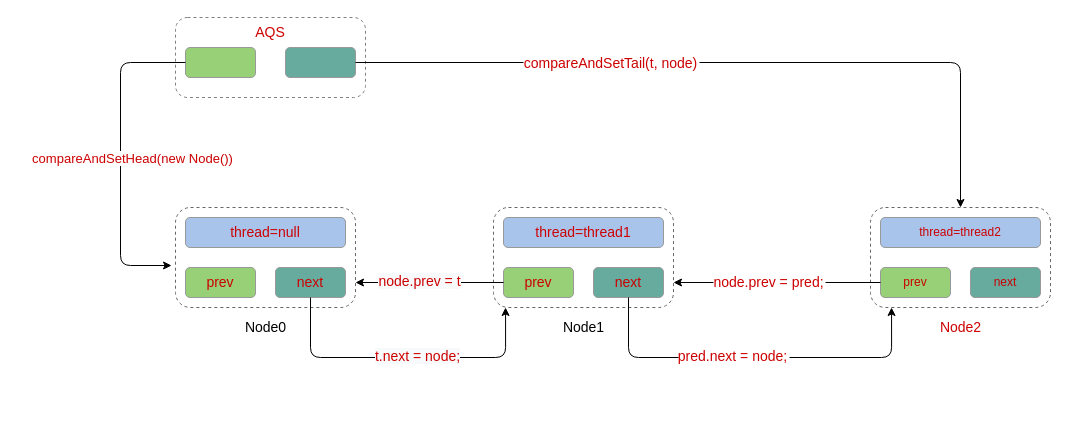
Some shapes in this 1068 by 431 pixel diagram are drawn without their labels. The shapes that lost their labels are listed below. From the top down, each one's centre as x and y in pixels, then its label:
[220,62]: head
[320,62]: tail
